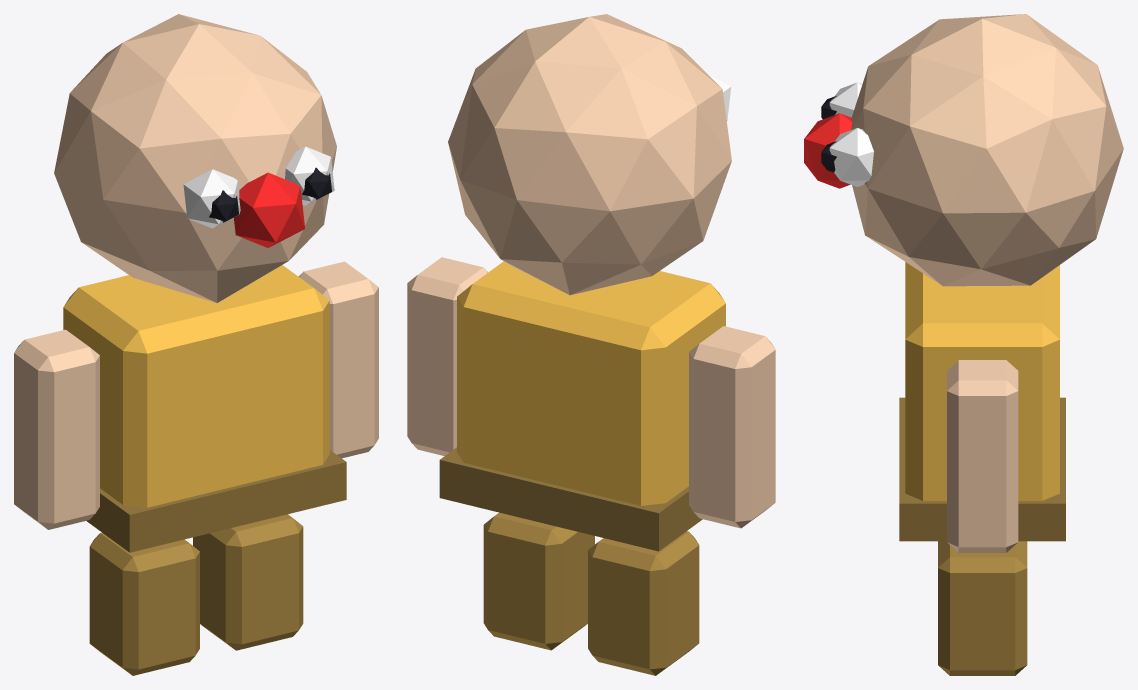
File: CircusAcrobat.fbx
3 views of the same model, side by side, from view 1: azimuth 30°, elevation 25°; view 2: azimuth 150°, elevation 25°; view 3: azimuth 270°, elevation 25° (orthographic).
Visible parts, largest first — view 1: CircusAcrobat; view 2: CircusAcrobat; view 3: CircusAcrobat.
Part boxes in pixels (left/top/right/bottom): CircusAcrobat: left=14, top=14, right=378, bottom=675; CircusAcrobat: left=407, top=14, right=775, bottom=675; CircusAcrobat: left=804, top=14, right=1123, bottom=675.
Size of the model in its own units: 3.13 by 5.45 by 2.55.
1 material, 1 textured.
